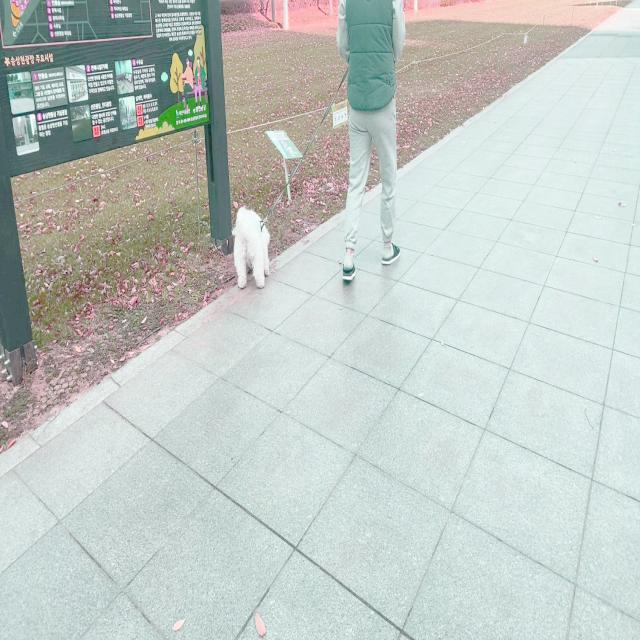Leashed_Dog: (233, 48, 375, 292)
